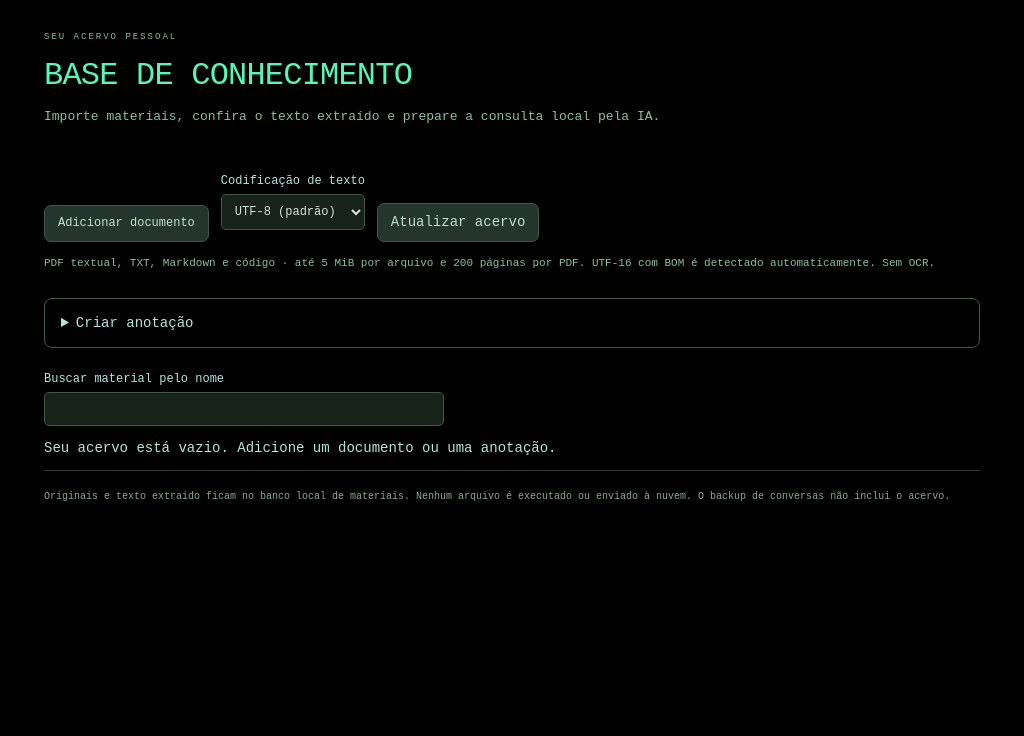
Test: notas sempre usam UTF-8 mesmo com Windows-1252 selecionado
Check: the text "Seu acervo está vazio" is shown, box [44, 440, 556, 456]
Select "Windows-1252" in the dropdown labelled "Codificação de texto". click: (293, 212)
box: [221, 194, 365, 230]
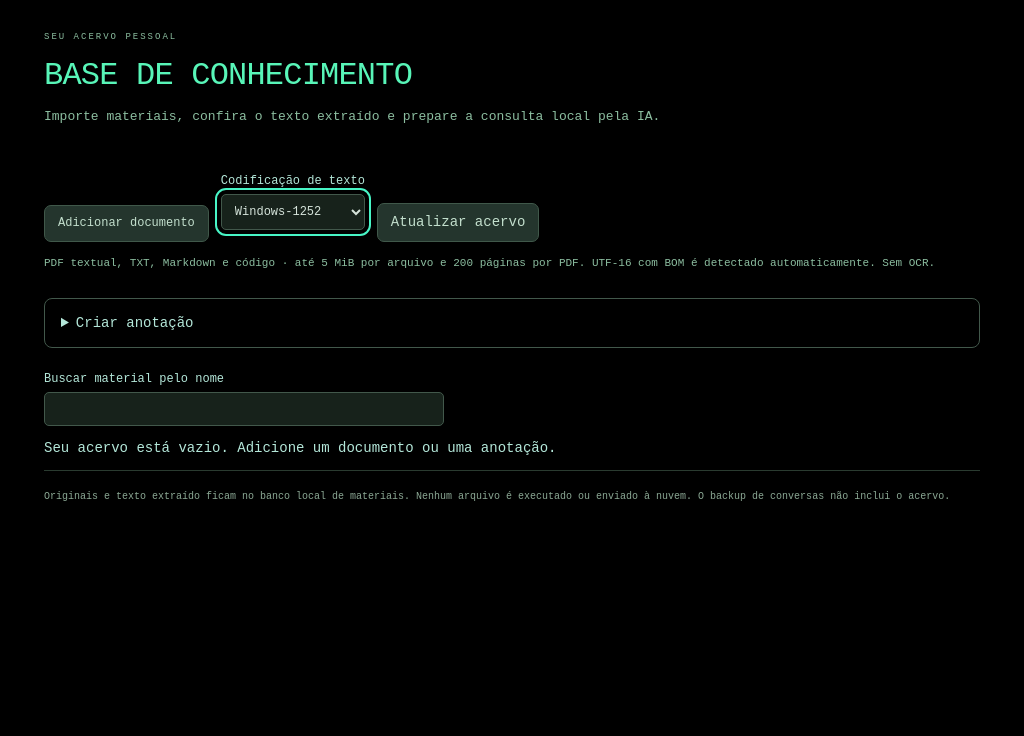
Click the heading "Criar anotação". click: (135, 323)
box: [76, 315, 193, 331]
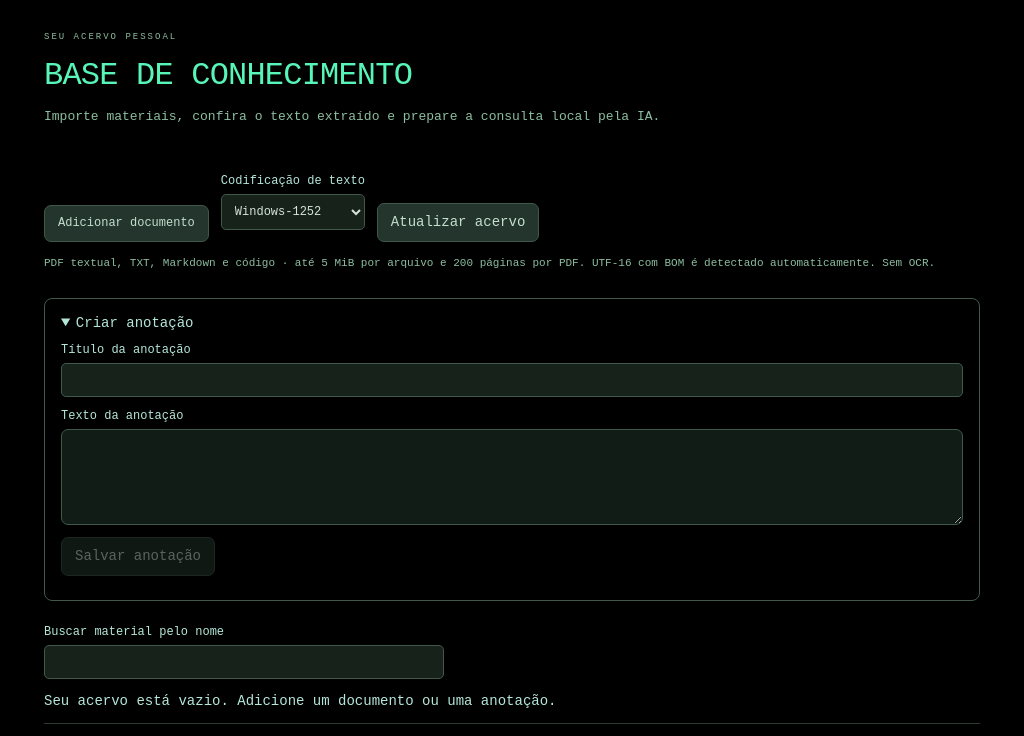
Type "Estudo" into the field labelled "Título da anotação". click: (512, 380)
box: [61, 363, 963, 397]
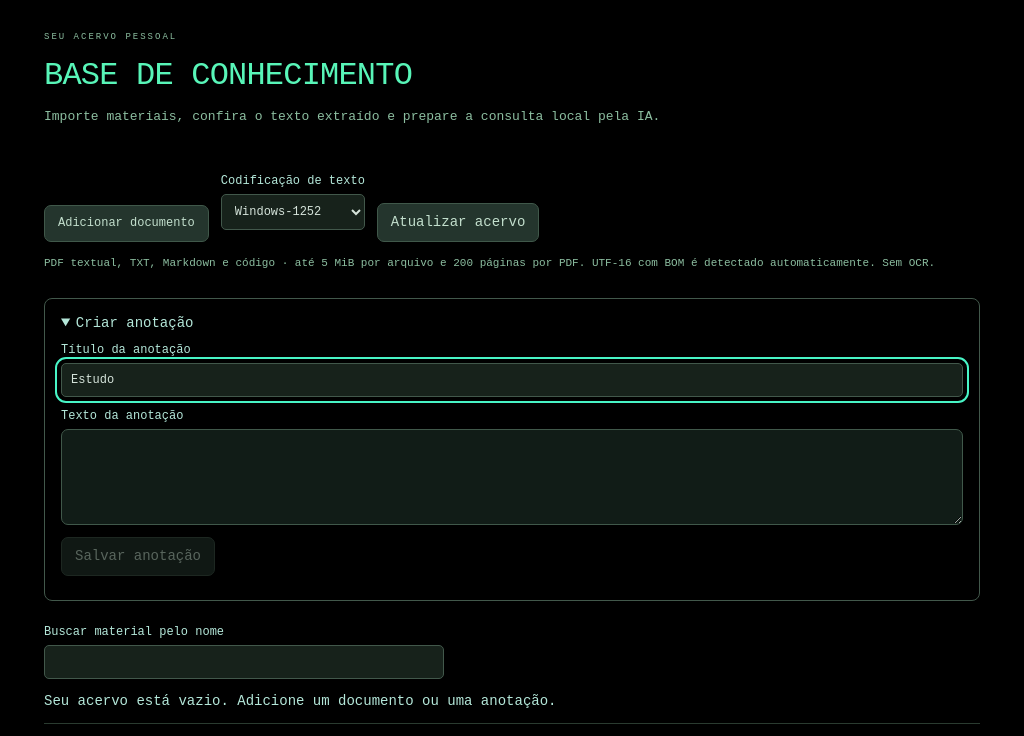
Type "ação" into the text box labelled "Texto da anotação". click: (512, 477)
box: [61, 429, 963, 525]
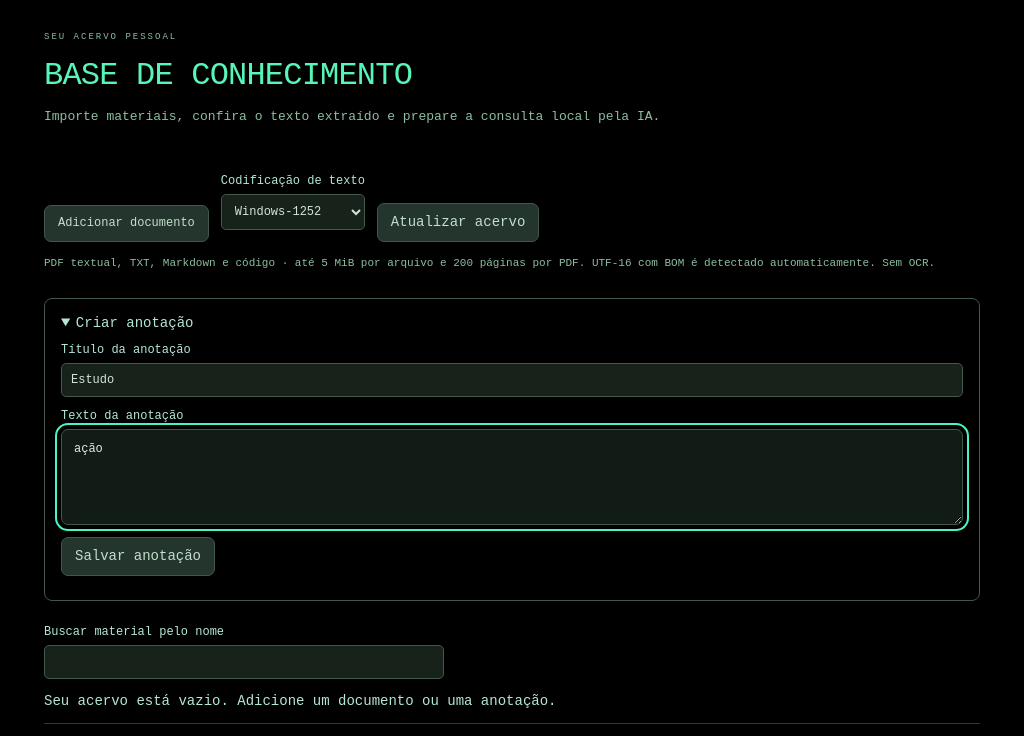
Click the button "Salvar anotação". click: (138, 557)
box: [61, 537, 215, 576]
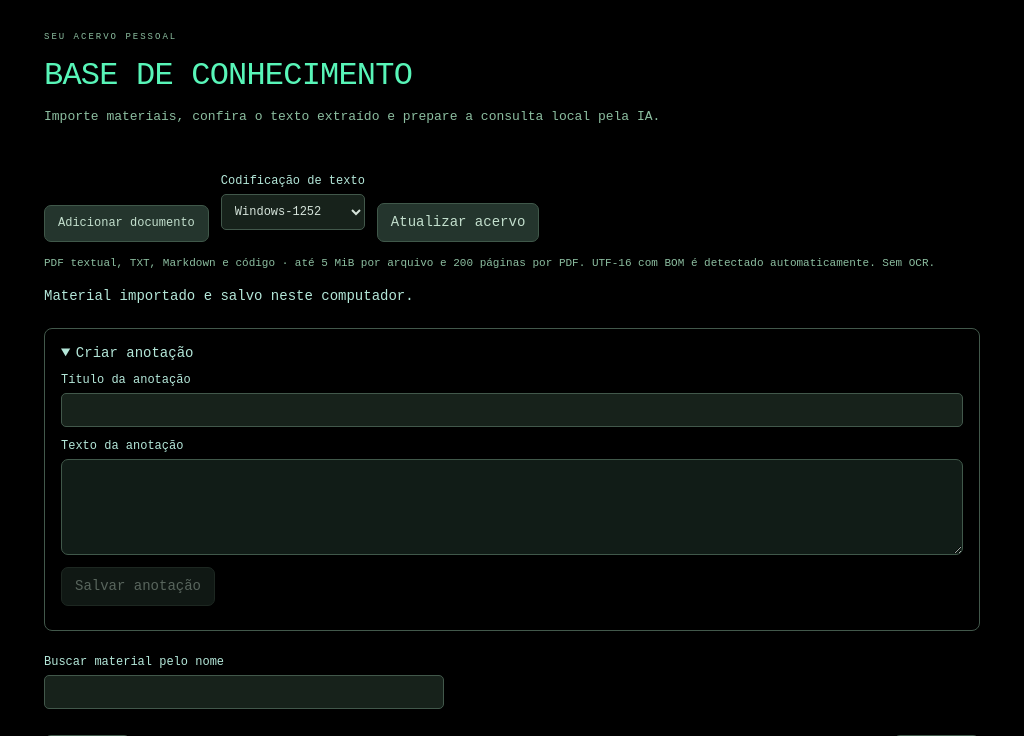
Check: the text "Material importado e salvo neste computador." is shown, box [44, 288, 414, 304]
